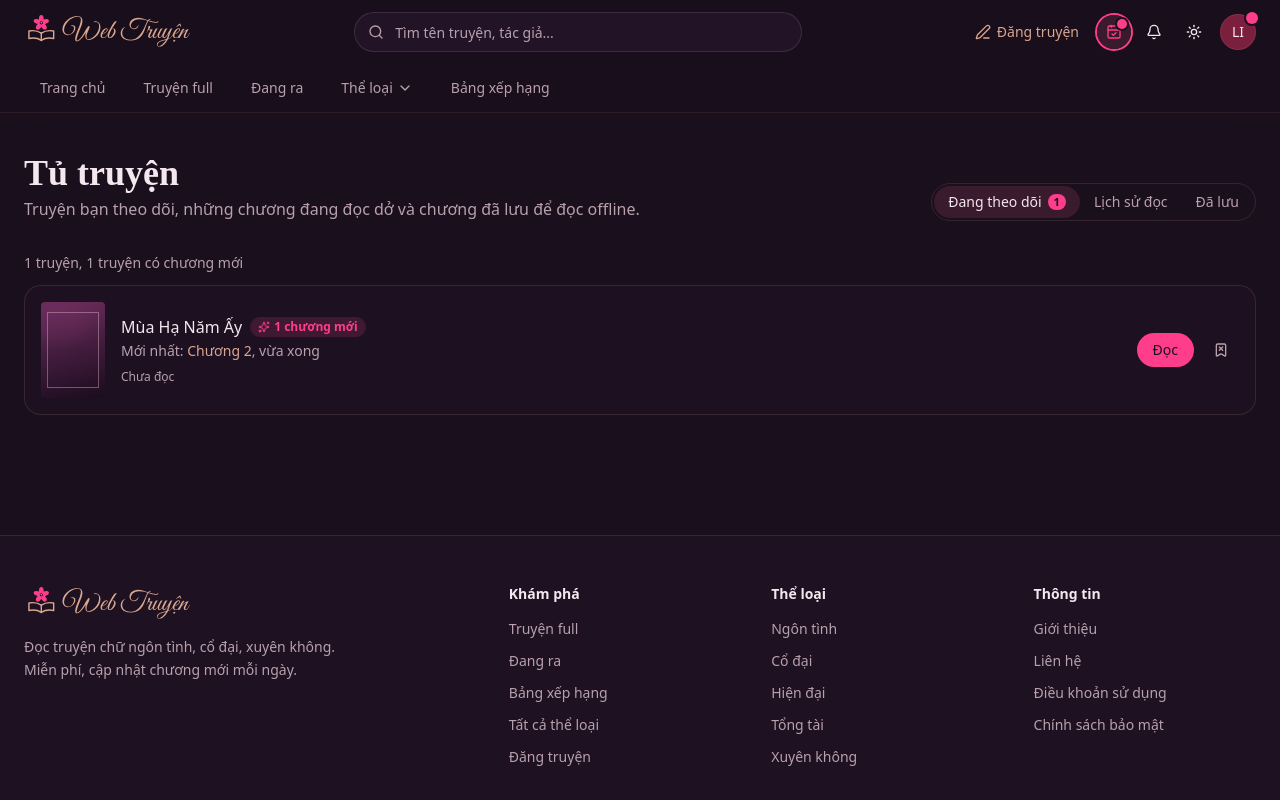
có chương mới: chấm trên avatar, số trong tab, nhãn trên truyện; bỏ theo dõi được
The width and height of the screenshot is (1280, 800).
Expected: the button with aria-label "1 truyện có chương mới" is shown, [1220,14,1256,50]
Expected: the text "1 chương mới" is shown, [250,317,366,337]
Click the button named "Bỏ theo dõi Mùa Hạ Năm Ấy" at (1221, 350), box [1203,332,1239,368]
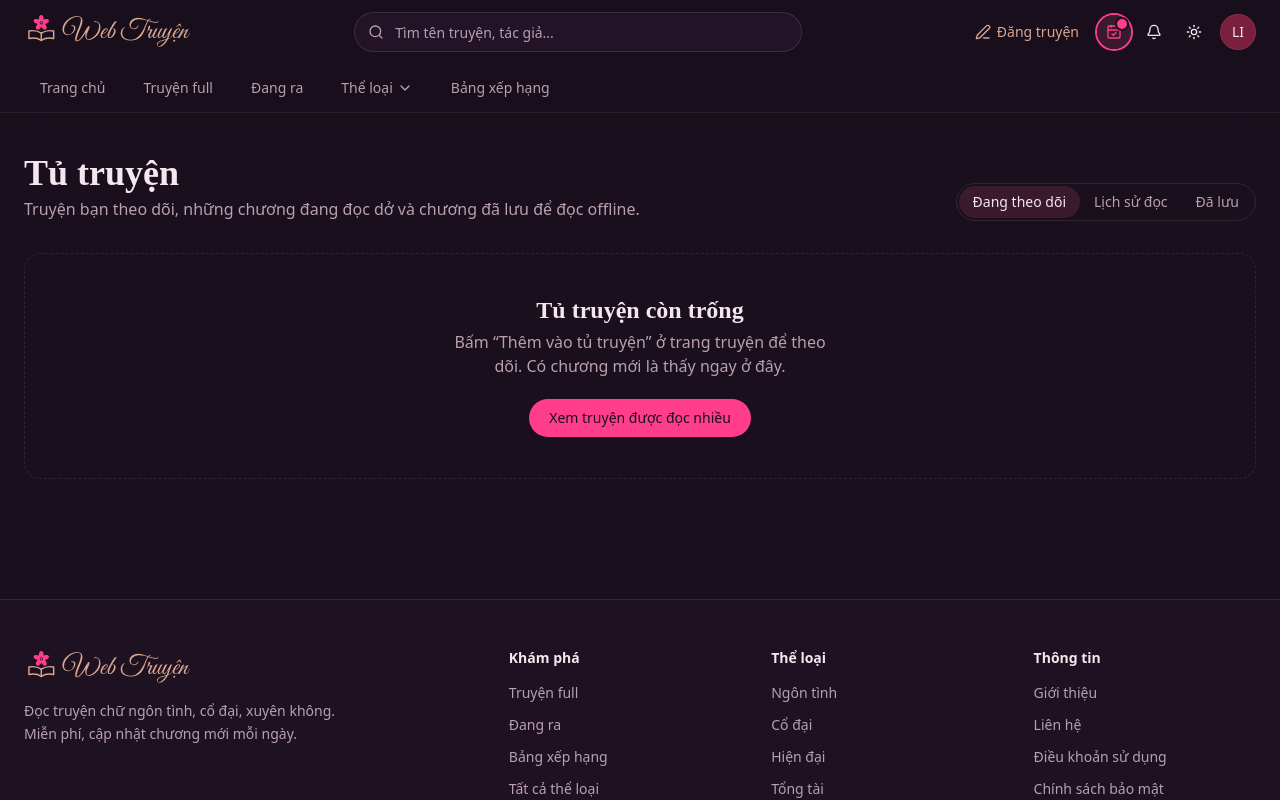
Expected: the text "Tủ truyện còn trống" is shown, [536,297,744,323]
